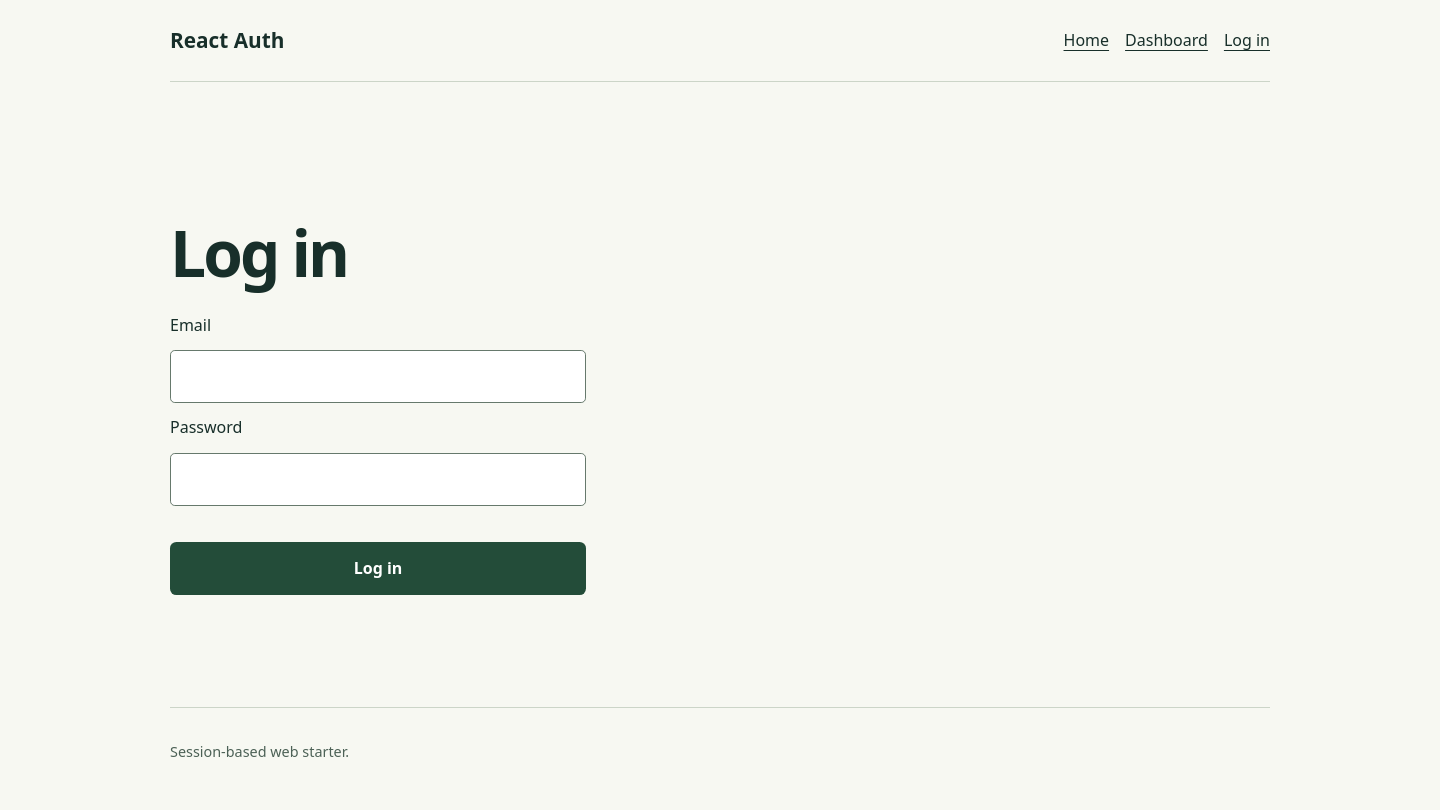
Test case: logs in and loads the protected dashboard from the backend session
Step 1. Type "owner@example.com" into the field labelled "Email" → coordinates (378, 377), box [170,350,586,404]
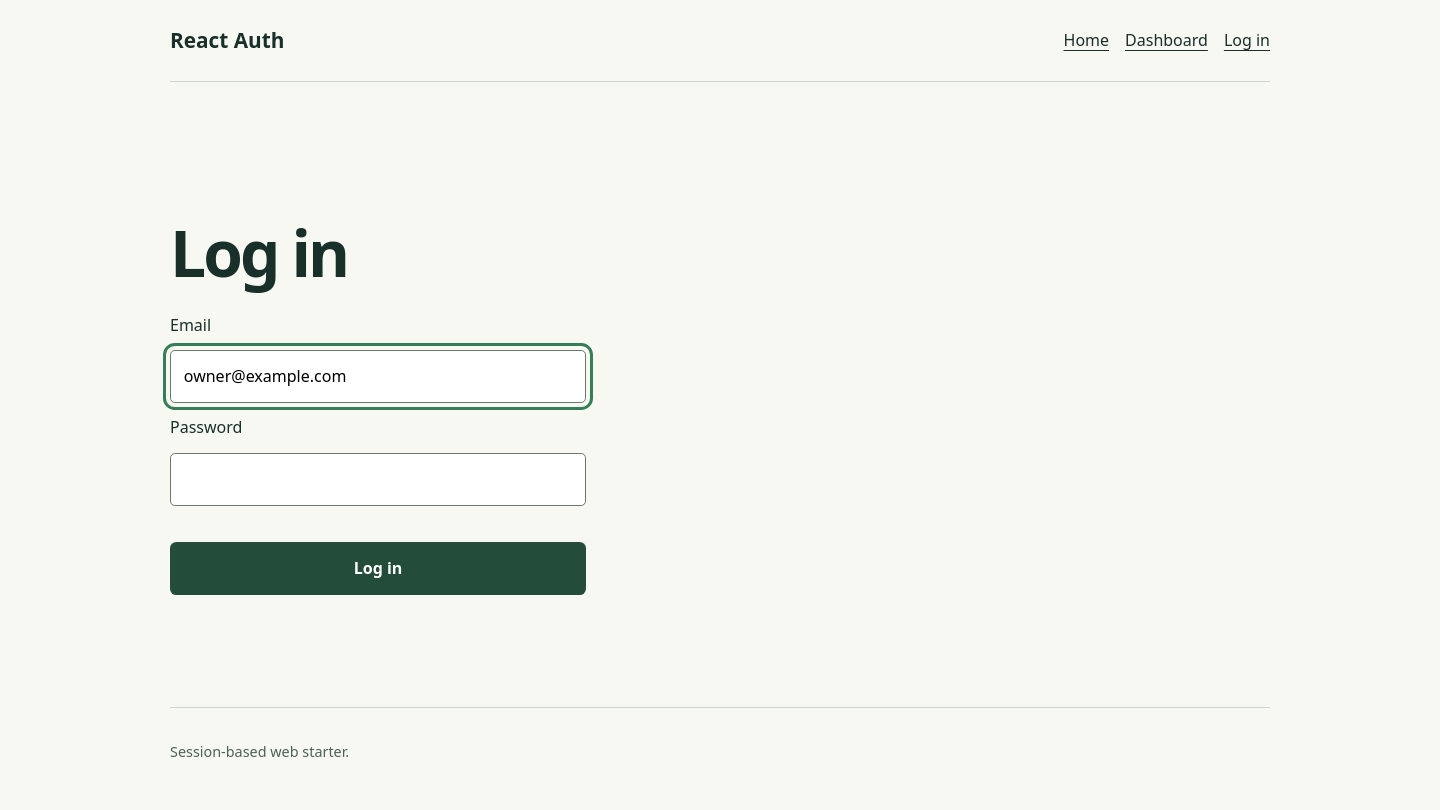
Step 2. Type "a-long-password" into the password field labelled "Password" → coordinates (378, 480), box [170,453,586,506]
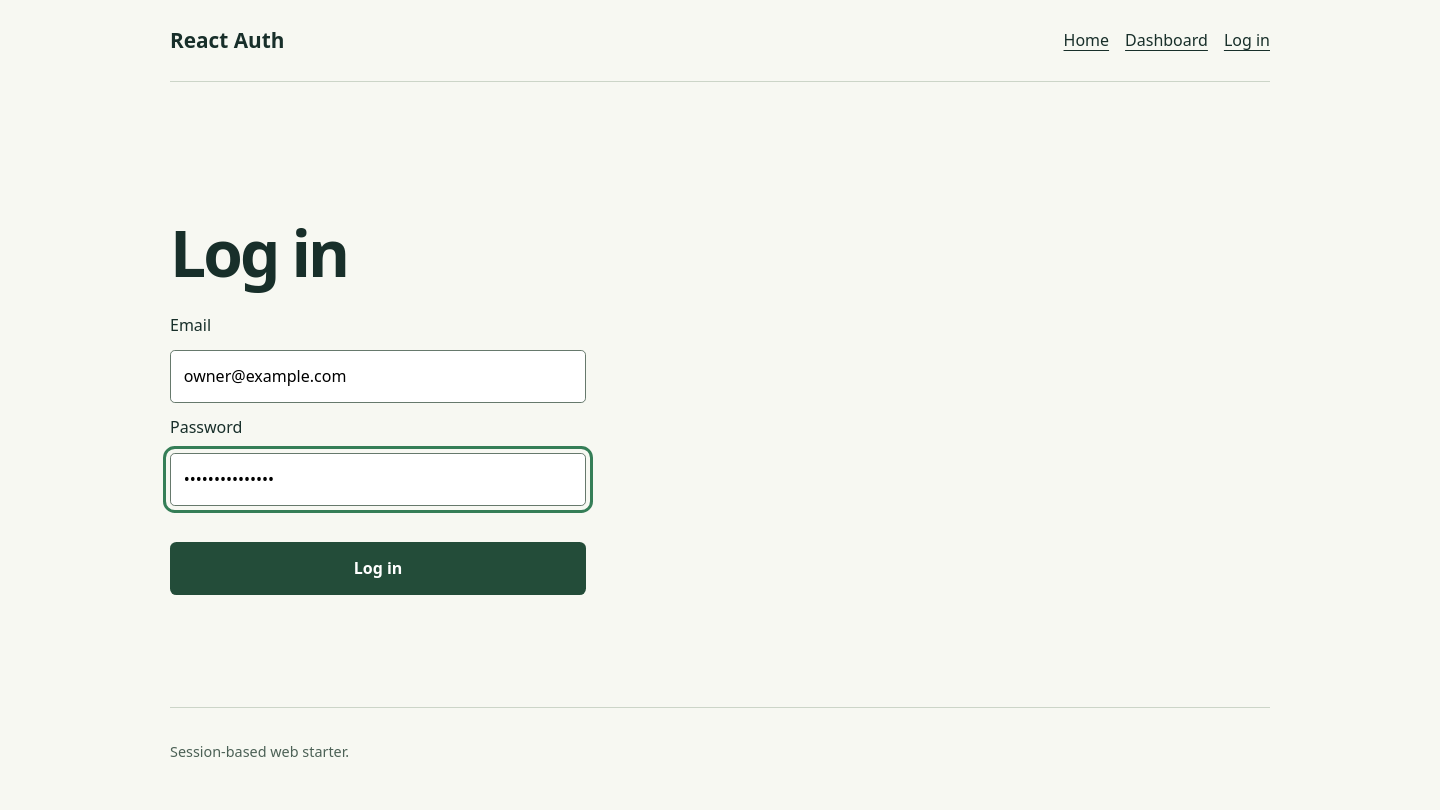
Step 3. Click the button "Log in" → coordinates (378, 569), box [170,542,586,595]
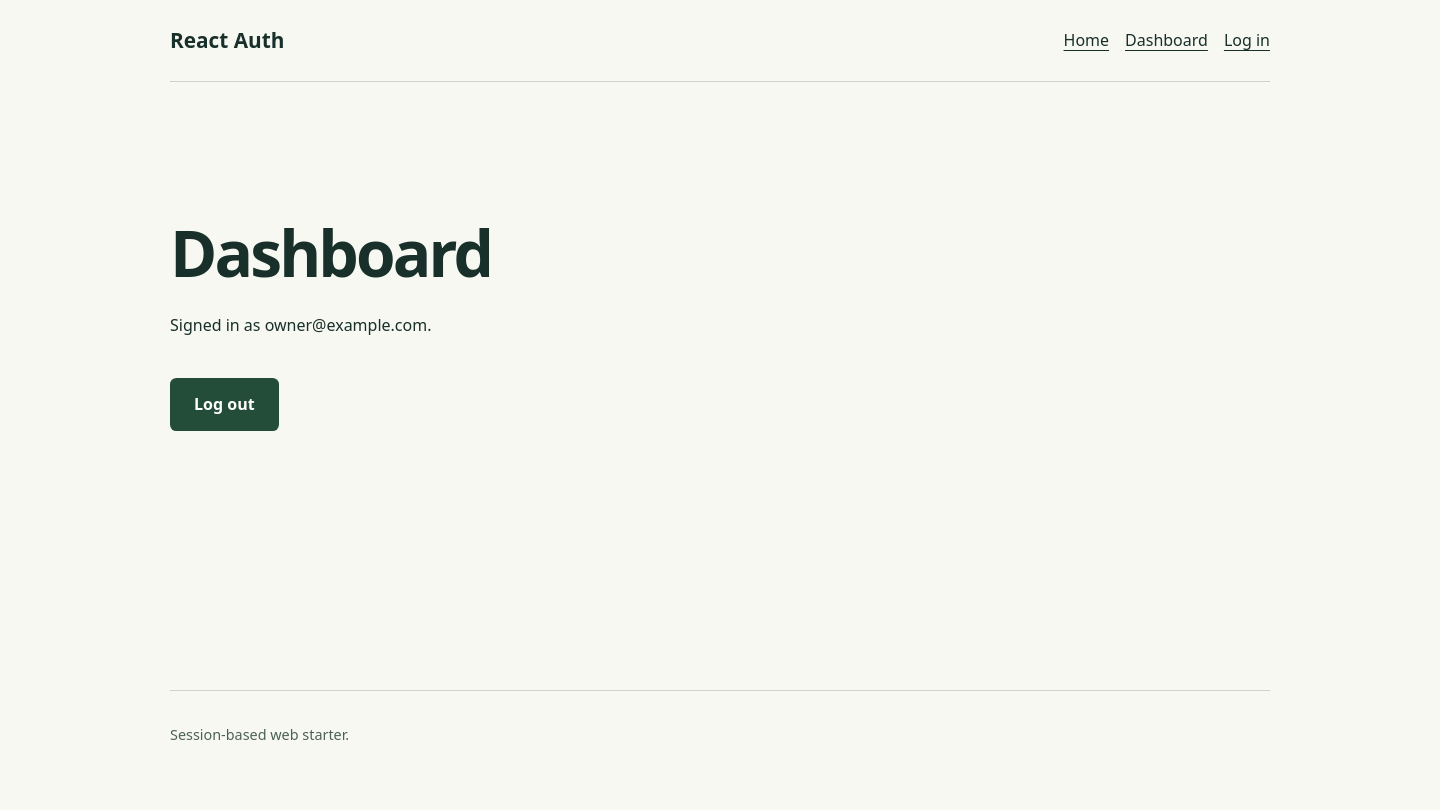
Now the text "Signed in as owner@example.com." is shown, box [170,314,432,336]
